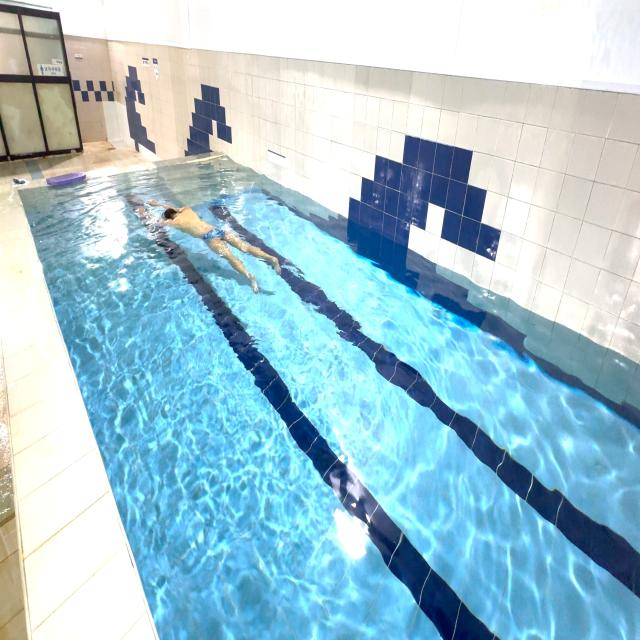Swimming: (126, 178, 290, 314)
